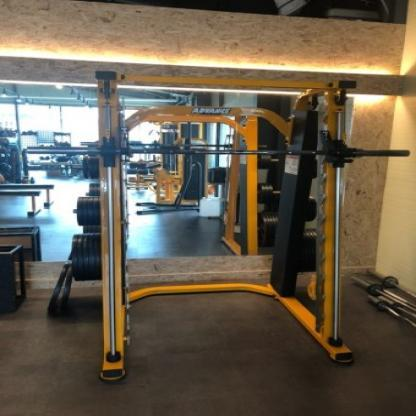smith machine: (77, 67, 362, 384)
